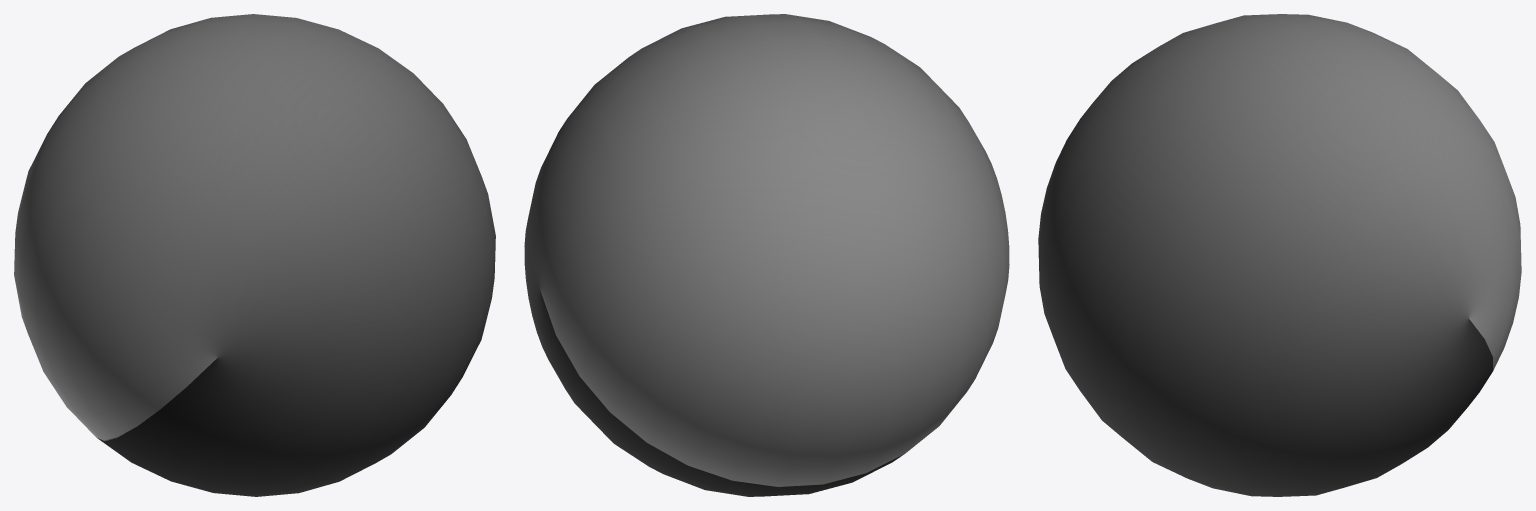
The model's file is tama.obj.
The picture shows the model from 3 angles, left to right: view 1: azimuth 30°, elevation 25°; view 2: azimuth 150°, elevation 25°; view 3: azimuth 270°, elevation 25°; orthographic projection.
Parts seen in each view (by area): view 1: 球; view 2: 球; view 3: 球.
Boxes of the visible parts, bbox=[...] form: 球: bbox=[14, 14, 495, 496]; 球: bbox=[524, 14, 1009, 496]; 球: bbox=[1038, 14, 1521, 496].
Size of the model in its own units: 3.18 by 3.19 by 3.19.
